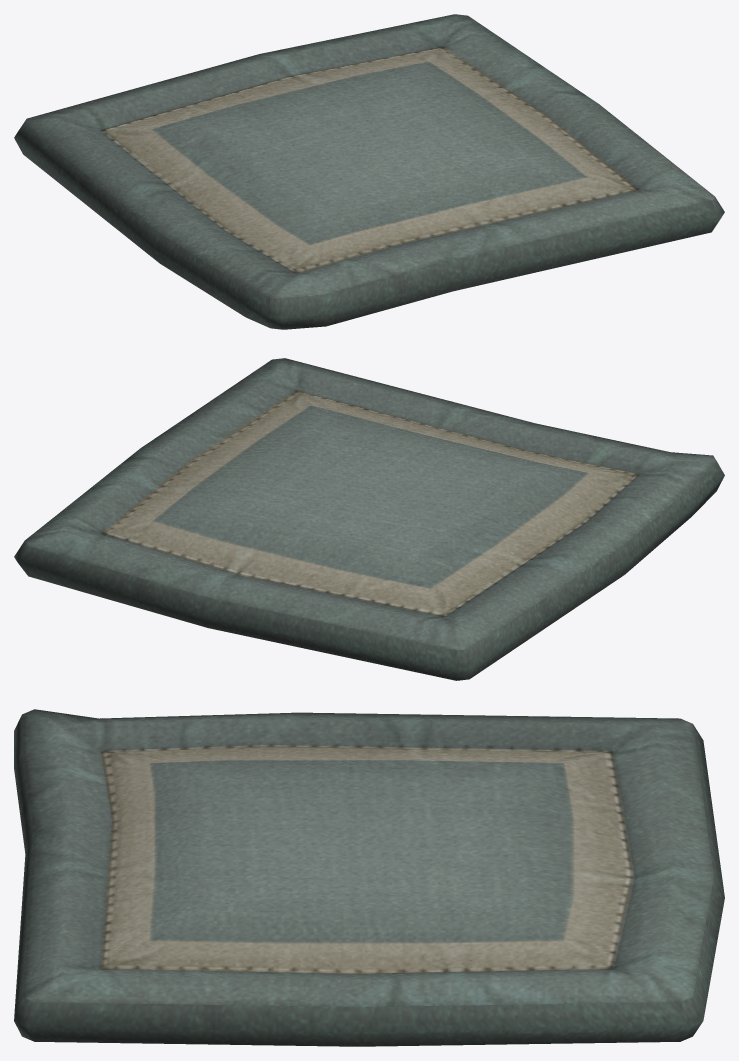
The model's file is outside_model_02_mat001.FBX.
3 renders of one model, top to bottom at view 1: azimuth 30°, elevation 25°; view 2: azimuth 150°, elevation 25°; view 3: azimuth 270°, elevation 25°, orthographic. The views are drawn at different scales.
Parts seen in each view (by area): view 1: outside_model_02_mat001; view 2: outside_model_02_mat001; view 3: outside_model_02_mat001.
Boxes of the visible parts, bbox=[...] form: outside_model_02_mat001: bbox=[14, 14, 724, 329]; outside_model_02_mat001: bbox=[14, 358, 724, 680]; outside_model_02_mat001: bbox=[14, 709, 724, 1046].
Bounding box in the file's own units: 1.14 × 0.0996 × 1.14.
